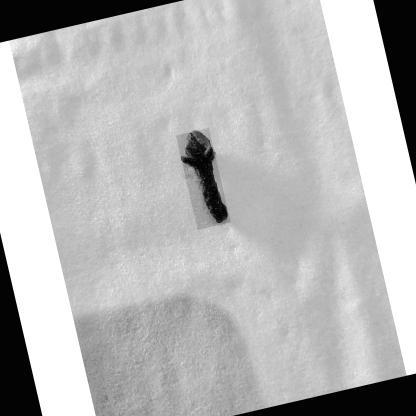baik: (182, 131, 229, 224)
